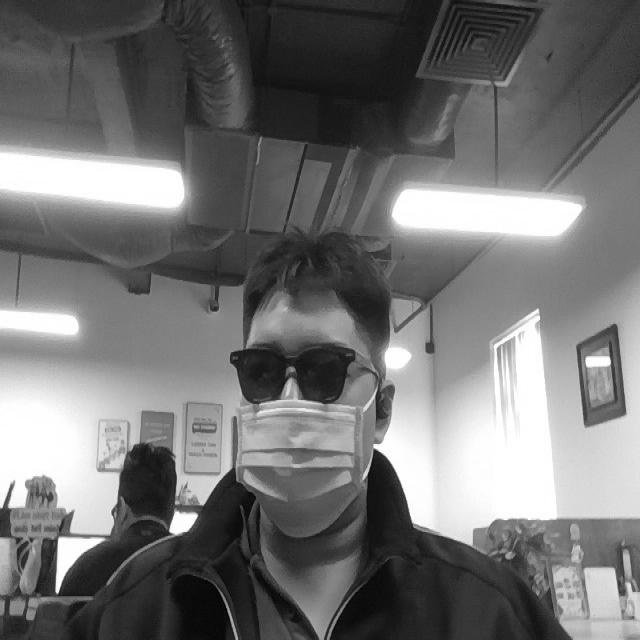fake: (235, 400, 373, 540), (226, 340, 380, 403)
